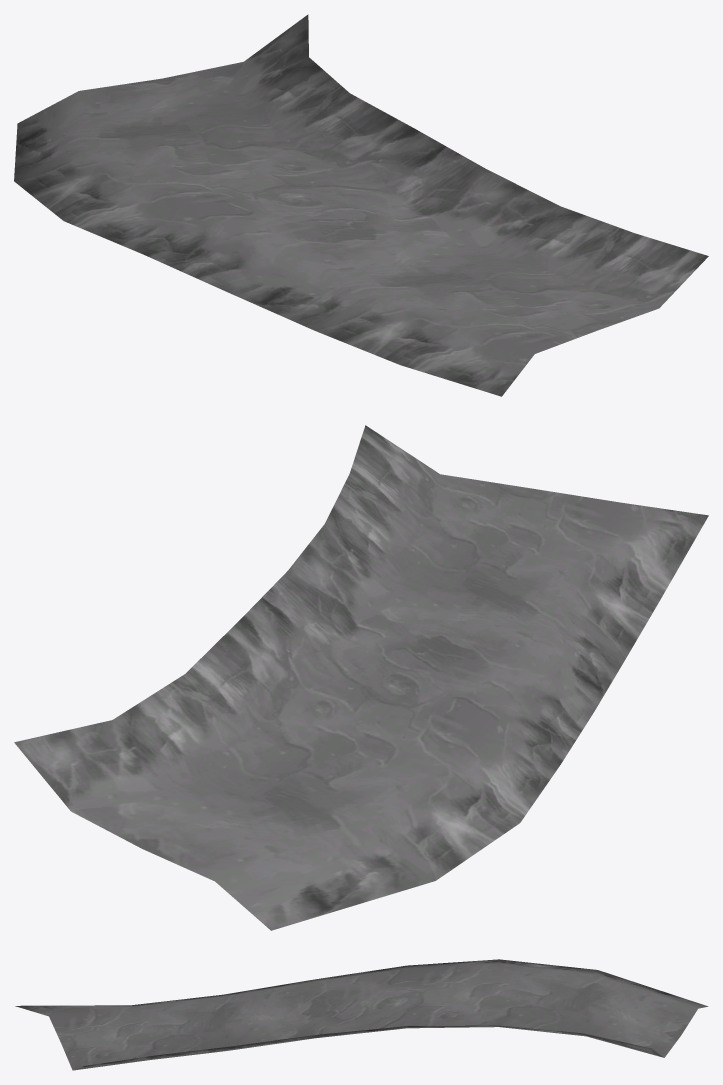
The model's file is SWORDLIGHT20_PS-AREA03_152.fbx.
3 renders of one model, top to bottom at view 1: azimuth 30°, elevation 25°; view 2: azimuth 150°, elevation 25°; view 3: azimuth 270°, elevation 25°, orthographic. The views are drawn at different scales.
Parts seen in each view (by area): view 1: SWORDLIGHT20_PS-AREA03_152; view 2: SWORDLIGHT20_PS-AREA03_152; view 3: SWORDLIGHT20_PS-AREA03_152.
Part boxes in pixels (x1,y1,x2,y2): SWORDLIGHT20_PS-AREA03_152: (14, 14, 708, 396); SWORDLIGHT20_PS-AREA03_152: (14, 425, 708, 930); SWORDLIGHT20_PS-AREA03_152: (15, 959, 708, 1070).
Bounding box in the file's own units: 68822 × 13400 × 131656.
1 material, 1 textured.
